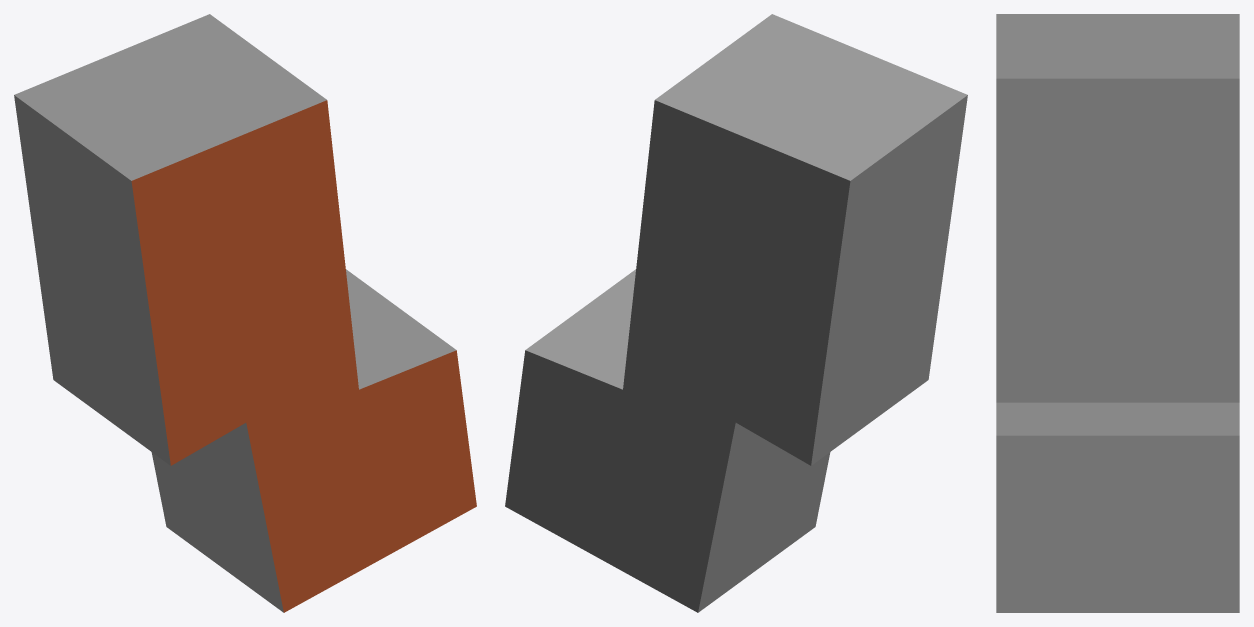
Rendered from construction_2876_assumed_A_Casa_h6m.obj.
3 renders of one model, left to right at view 1: azimuth 30°, elevation 25°; view 2: azimuth 150°, elevation 25°; view 3: azimuth 270°, elevation 25°, orthographic. The views are drawn at different scales.
Visible parts, largest first — view 1: construction_2876_assumed_A_Casa; view 2: construction_2876_assumed_A_Casa; view 3: construction_2876_assumed_A_Casa.
Part boxes in pixels (x1=…): construction_2876_assumed_A_Casa: x1=14, y1=14, x2=476, y2=612; construction_2876_assumed_A_Casa: x1=505, y1=14, x2=967, y2=612; construction_2876_assumed_A_Casa: x1=996, y1=14, x2=1239, y2=612.
Size of the model in its own units: 10.18 by 14.15 by 6.
